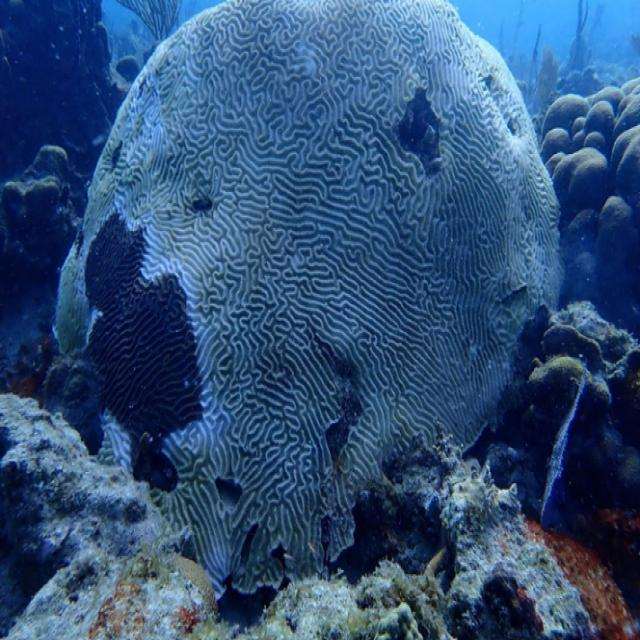Coral: (54, 0, 561, 601)
